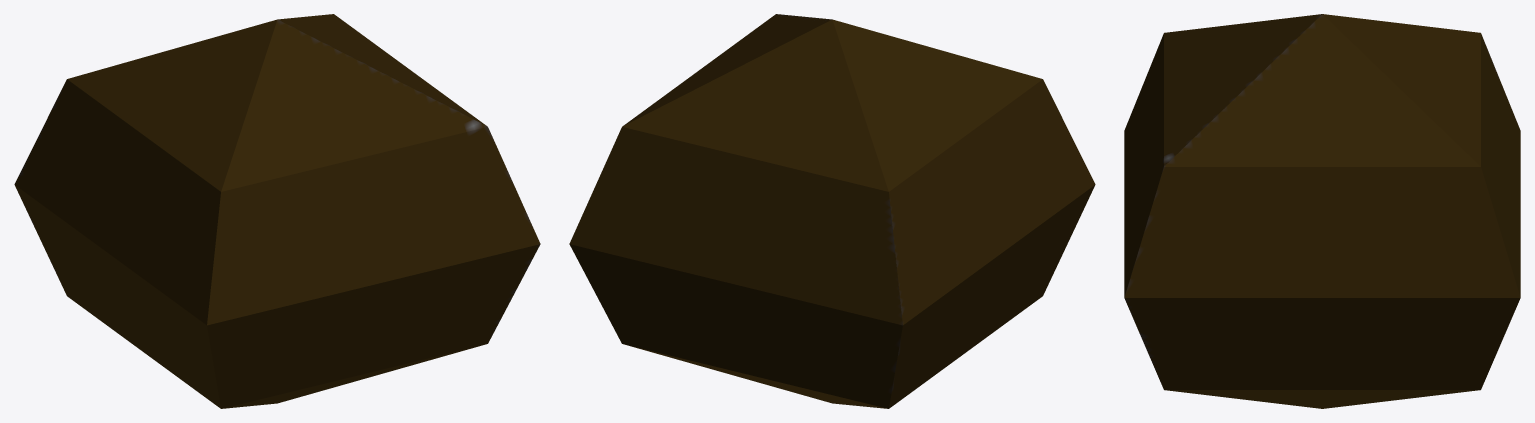
Rendered from asteroid1.gltf.
3 views of the same model, side by side, from view 1: azimuth 30°, elevation 25°; view 2: azimuth 150°, elevation 25°; view 3: azimuth 270°, elevation 25° (orthographic). The views are drawn at different scales.
Parts seen in each view (by area): view 1: Cone; view 2: Cone; view 3: Cone.
Part boxes in pixels (x1,y1,x2,y2): Cone: (14,14,540,408); Cone: (569,14,1095,408); Cone: (1124,14,1520,408).
Bounding box in the file's own units: 500 × 550 × 500.
1 material, 1 textured.
